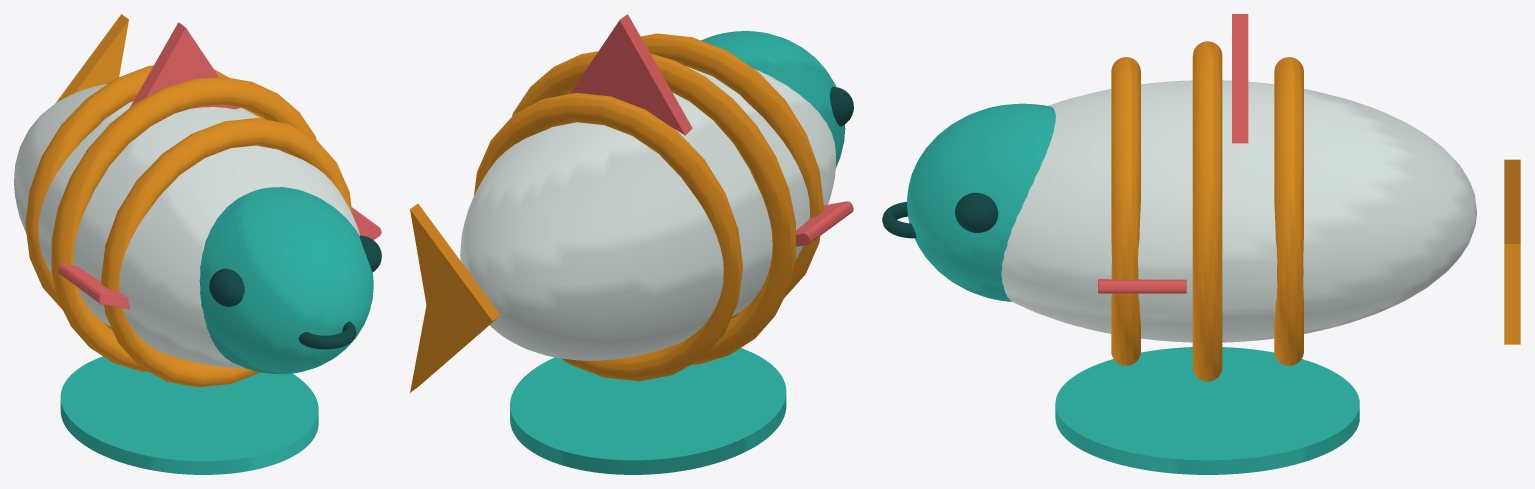
File: 0478_鱼类图鉴_锯脂鲤.glb
The picture shows the model from 3 angles, left to right: view 1: azimuth 30°, elevation 25°; view 2: azimuth 150°, elevation 25°; view 3: azimuth 270°, elevation 25°; orthographic projection. The views are drawn at different scales.
Visible parts, largest first — view 1: card_0478; view 2: card_0478; view 3: card_0478.
Boxes of the visible parts, box(x1,y1,x2,y2) form: card_0478: box(14, 14, 381, 474); card_0478: box(410, 14, 853, 474); card_0478: box(882, 14, 1520, 474).
Bounding box in the file's own units: 0.7806 × 1 × 1.42.
